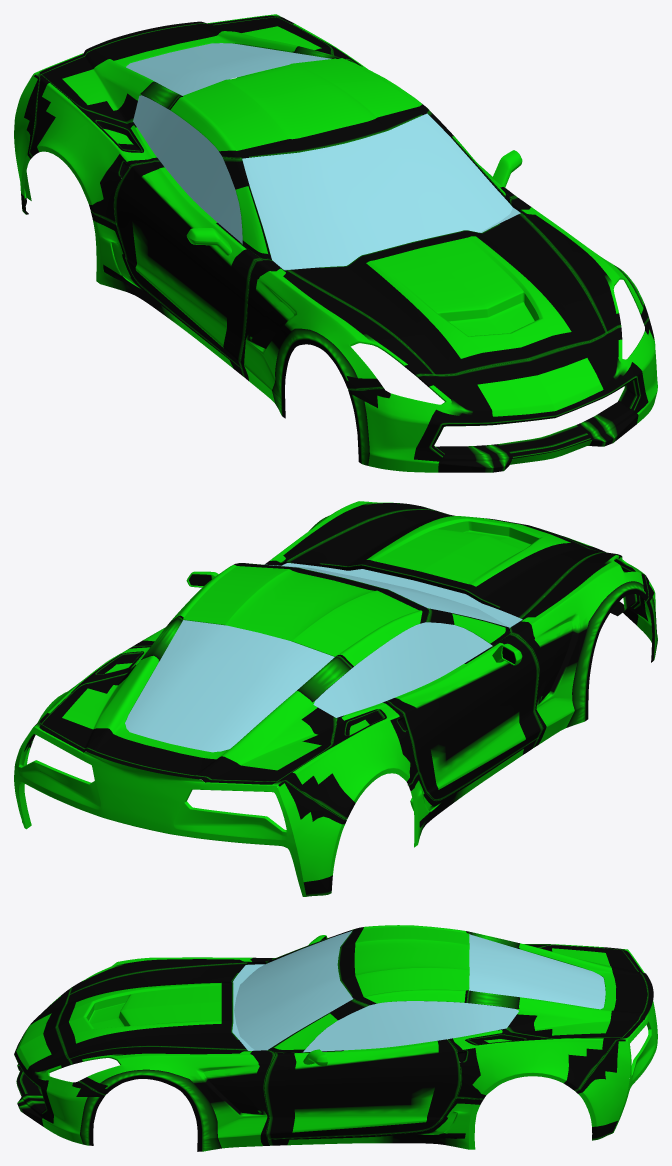
The model's file is car body.fbx.
3 renders of one model, top to bottom at view 1: azimuth 30°, elevation 25°; view 2: azimuth 150°, elevation 25°; view 3: azimuth 270°, elevation 25°, orthographic. The views are drawn at different scales.
Visible parts, largest first — view 1: polySurface121, windows; view 2: polySurface121, windows; view 3: polySurface121, windows.
Boxes of the visible parts, x1=… form: polySurface121: x1=14, y1=14, x2=657, y2=472; windows: x1=126, y1=43, x2=520, y2=270; polySurface121: x1=14, y1=501, x2=657, y2=896; windows: x1=125, y1=563, x2=522, y2=752; polySurface121: x1=14, y1=925, x2=657, y2=1151; windows: x1=232, y1=930, x2=605, y2=1052.
Bounding box in the file's own units: 9.79 × 5.23 × 21.54.
